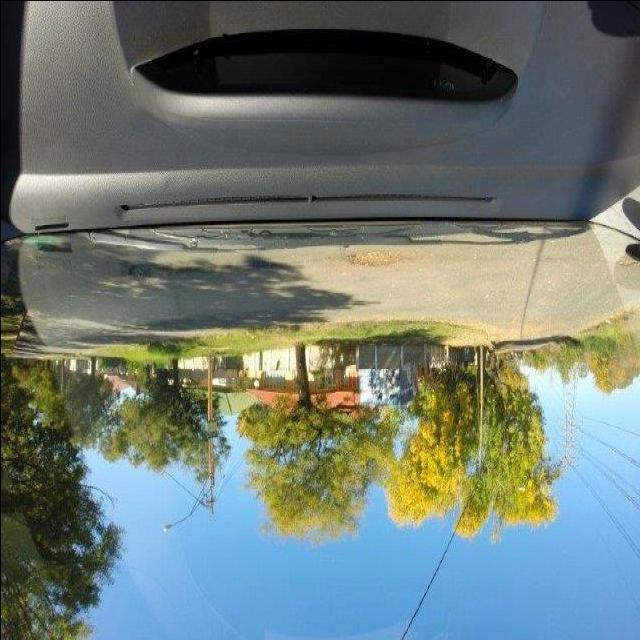lubang: (345, 252, 398, 270)
